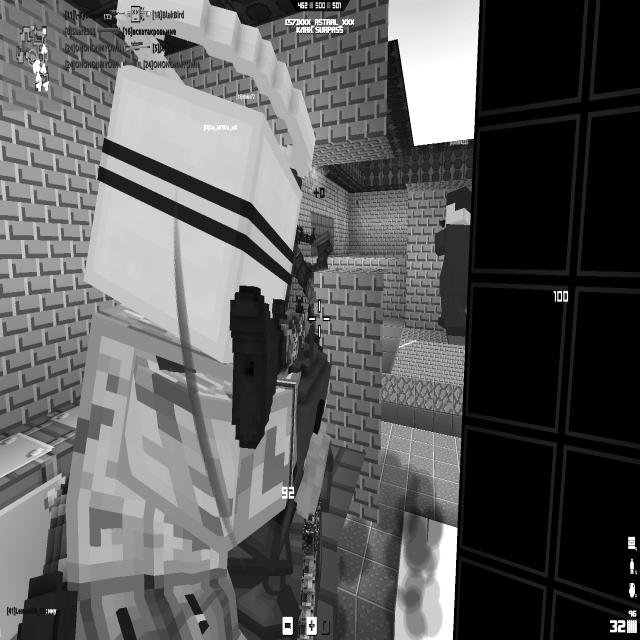Head: (83, 63, 303, 364), (444, 186, 474, 226)
Player: (19, 0, 330, 639), (434, 186, 473, 336)
